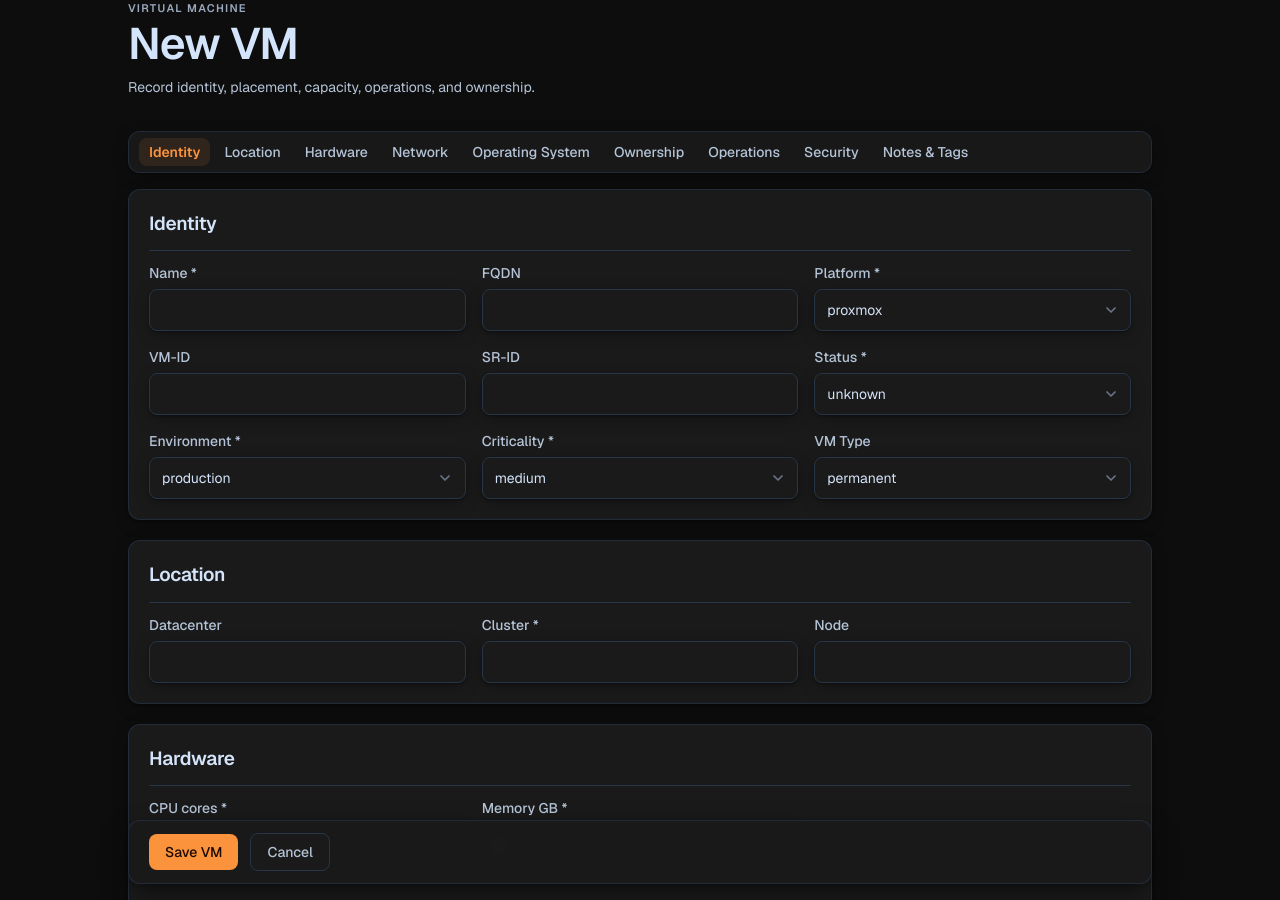
Test: VmFormPage vm_type / decommission_date gating › rejects submitting a temporary VM without a decommission date
The width and height of the screenshot is (1280, 900).
Type "temp-vm" into the field labelled "Name *".
click(307, 310); type("temp-vm")  # box [149,289,466,331]
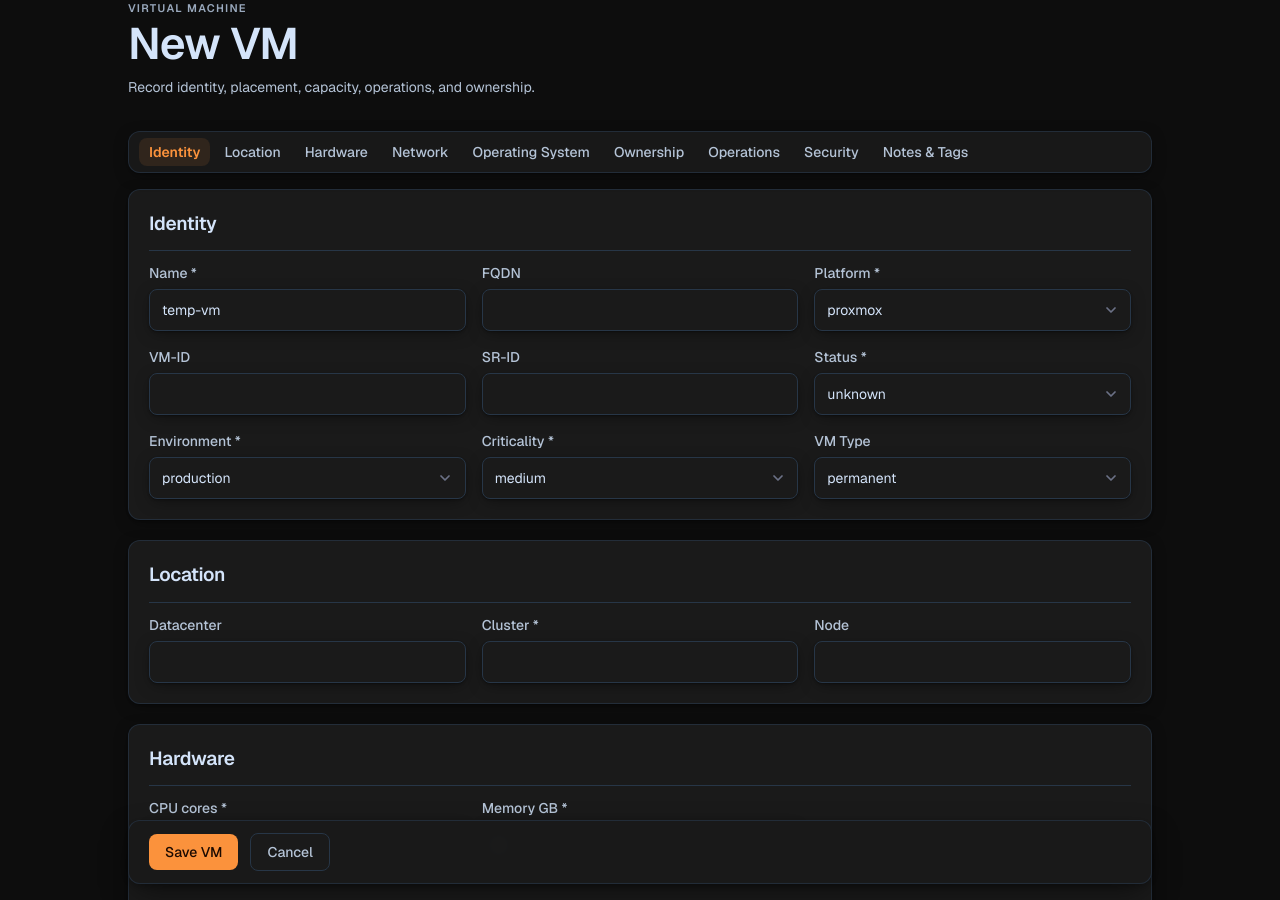
Type "cluster-a" into the dropdown labelled "Cluster *".
click(640, 662); type("cluster-a")  # box [482,641,798,683]
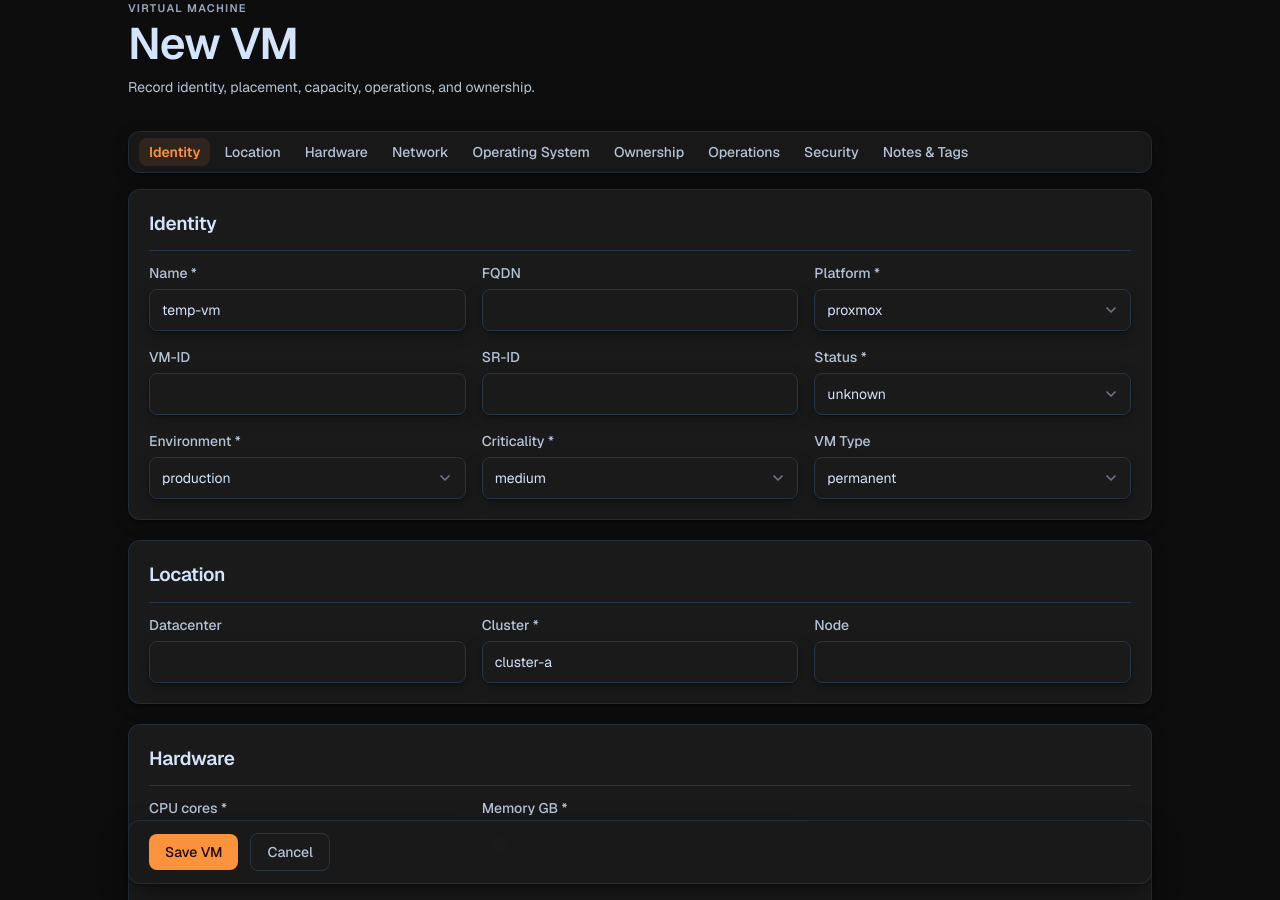
Select "temporary" in the dropdown labelled "VM Type" at {"x": 973, "y": 478}, box [814,457,1131,499]
(page scrolled)
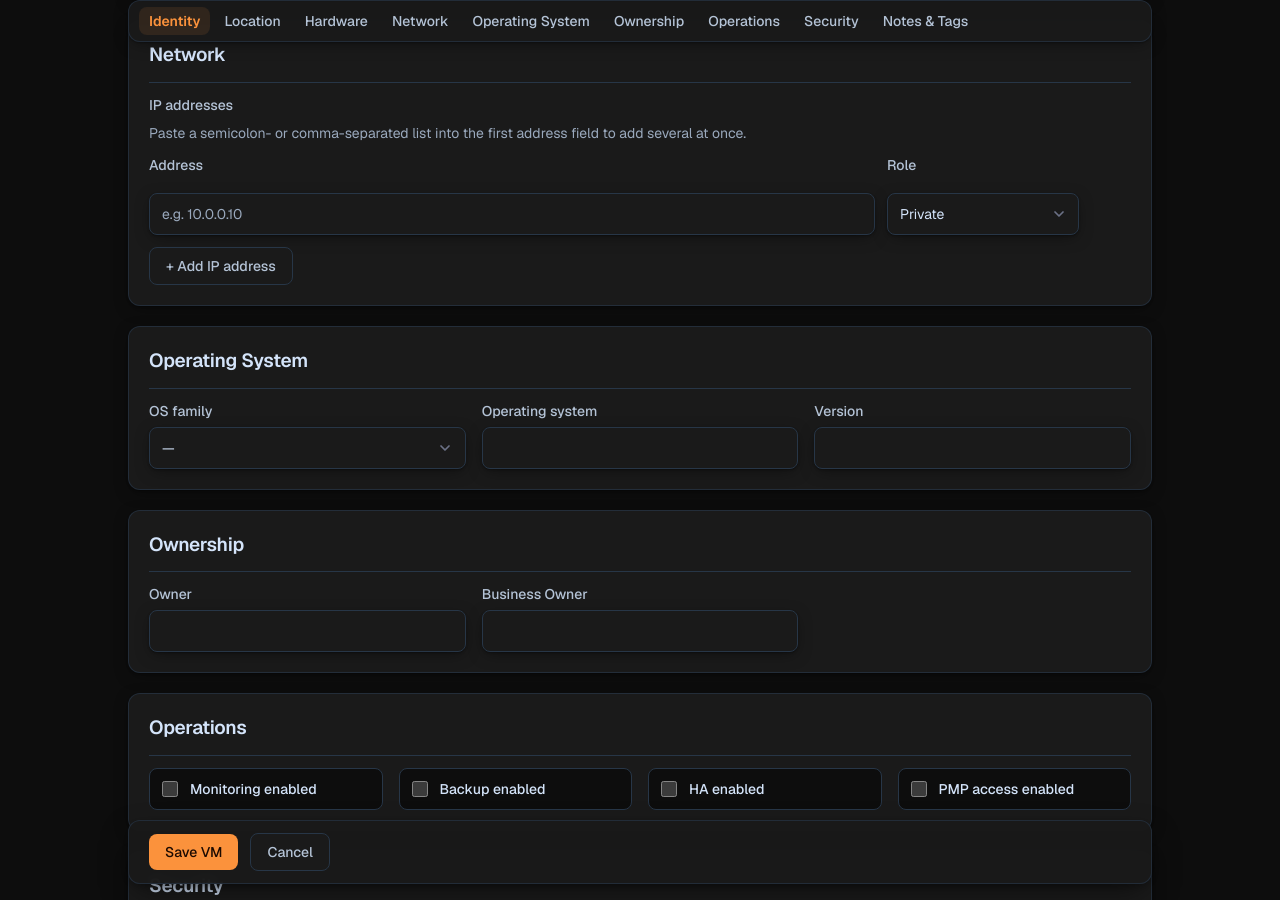
Submit the form labelled "Name"
(page scrolled)
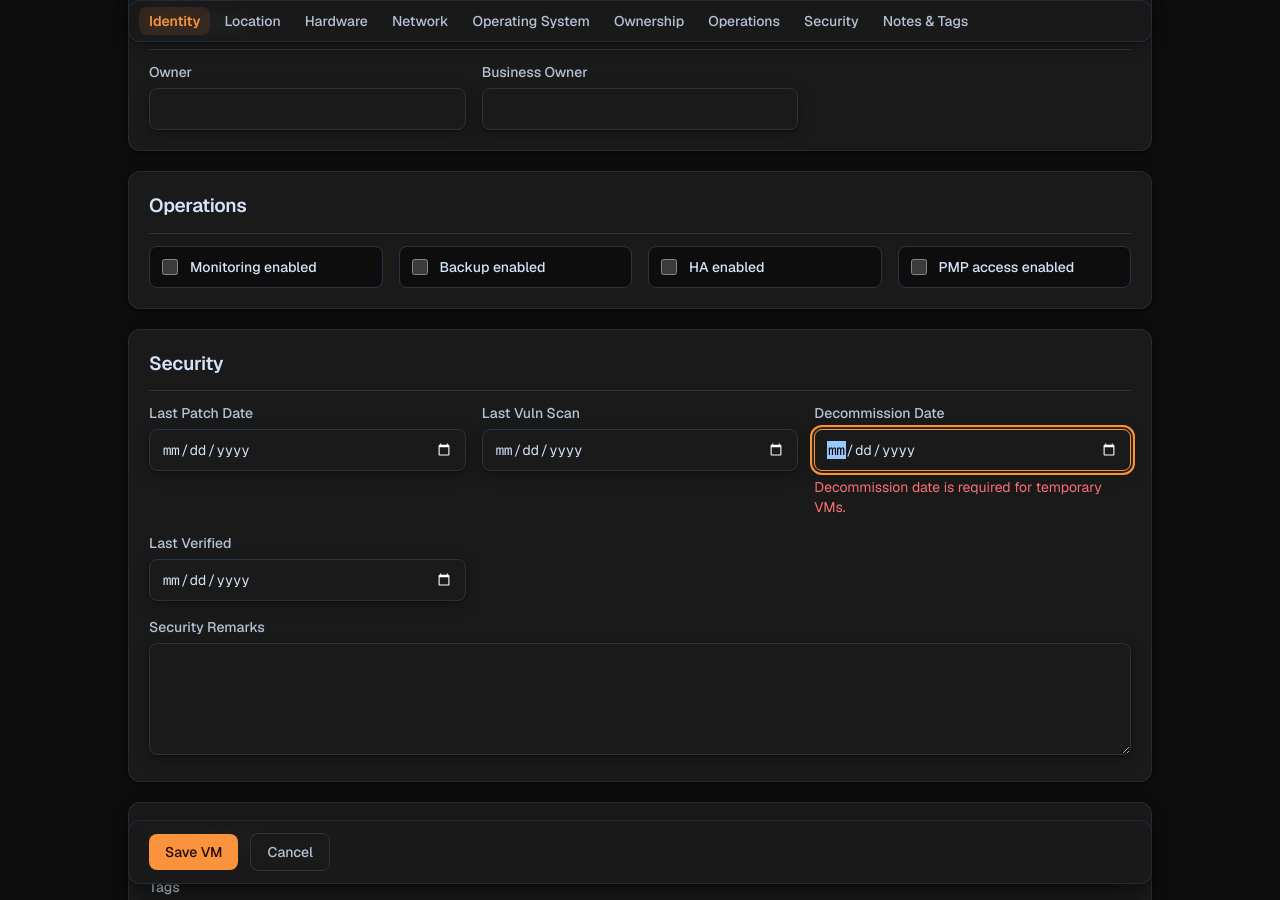
Now the text "Decommission date is required for temporary VMs." is shown, box [814,477,1131,517]
